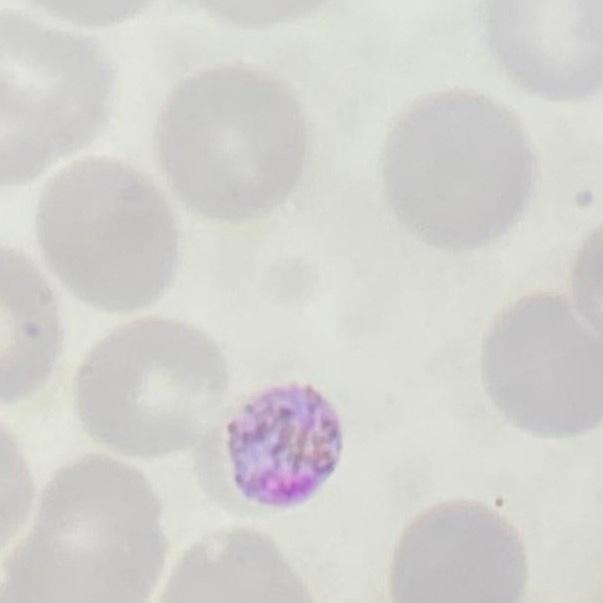Infected: (226, 385, 345, 505)
Uninfected: (390, 93, 541, 249), (154, 73, 305, 217), (39, 158, 181, 311), (76, 319, 230, 456), (481, 292, 603, 442)
